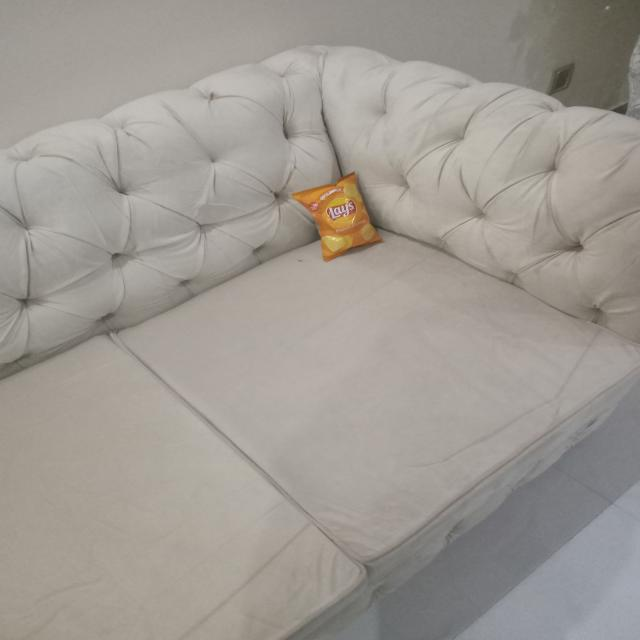Plastic: (283, 165, 404, 262)
